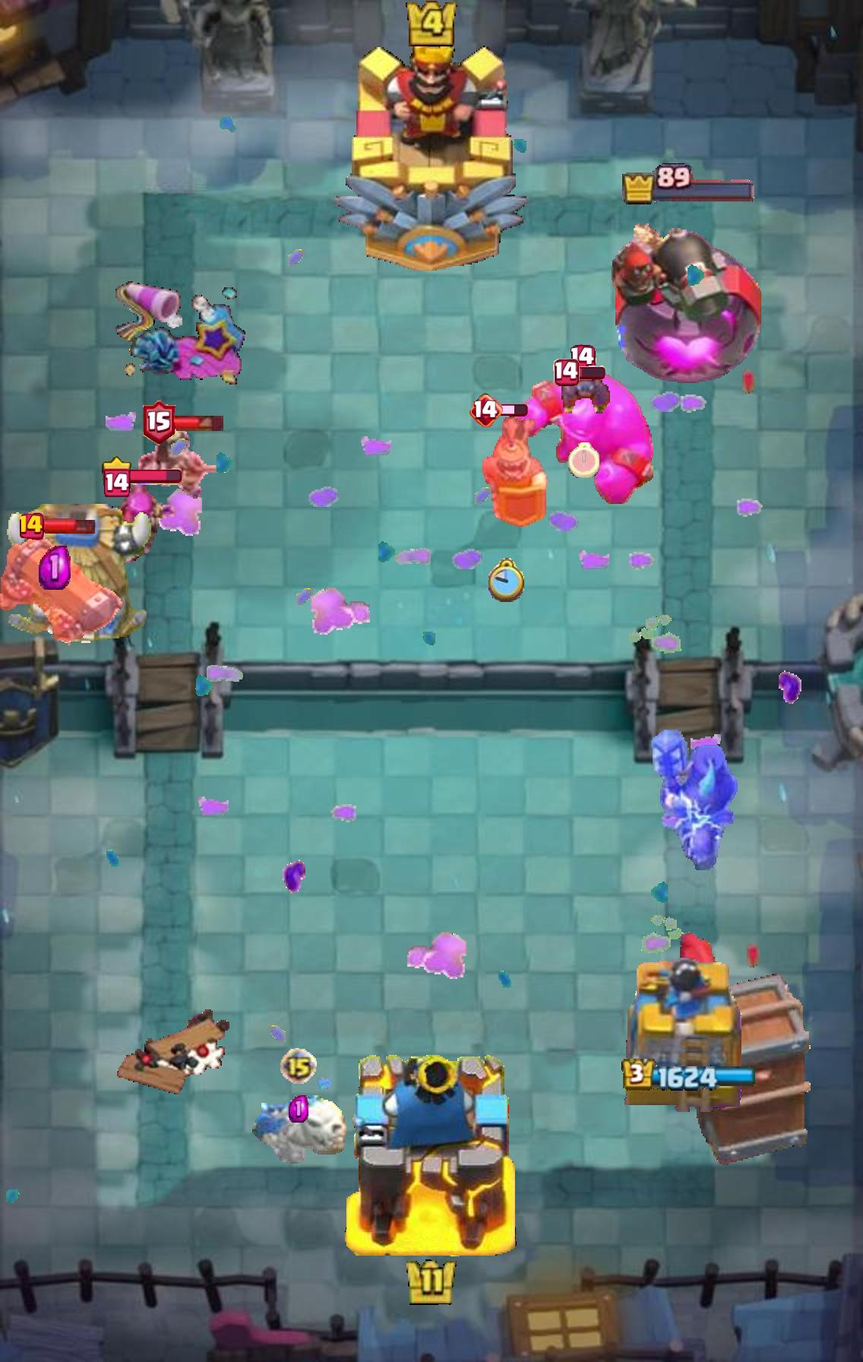elixir: (39, 546, 71, 590), (289, 1095, 308, 1123)
